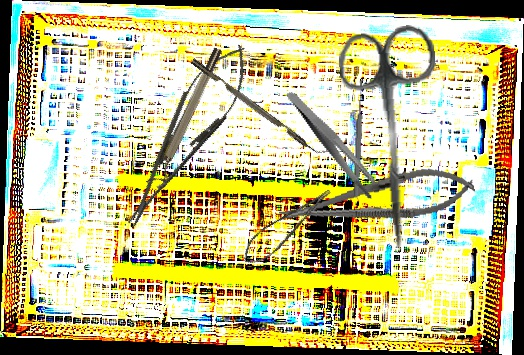Chopper: (190, 51, 330, 162)
Dressing Forceps: (284, 74, 383, 214)
Fixation Ring: (145, 46, 231, 191)
Iris Scissors: (336, 23, 452, 255)
Micro Scissor: (234, 185, 343, 271)
Needle Holder: (108, 32, 264, 239), (275, 159, 478, 240)
Surgical Spoon: (352, 78, 366, 199)
